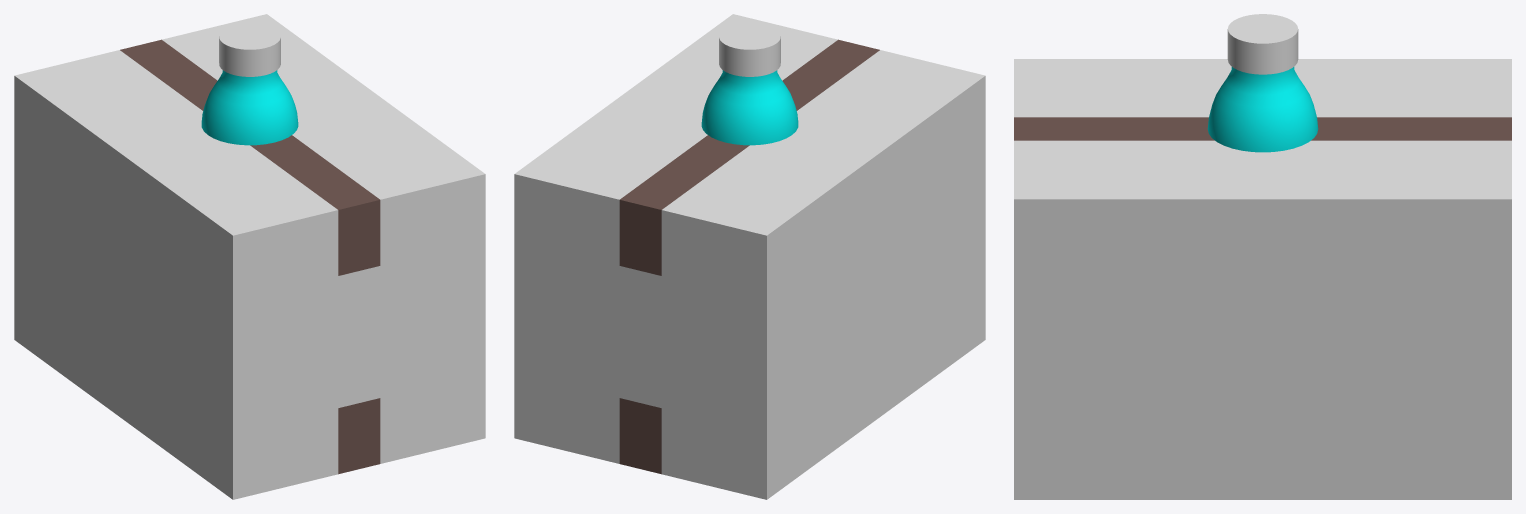
Rendered from SM_Collectables.fbx.
3 views of the same model, side by side, from view 1: azimuth 30°, elevation 25°; view 2: azimuth 150°, elevation 25°; view 3: azimuth 270°, elevation 25° (orthographic). The views are drawn at different scales.
Visible parts, largest first — view 1: Parcel, WaterBottle; view 2: Parcel, WaterBottle; view 3: Parcel, WaterBottle.
Part boxes in pixels (x1,y1,x2,y2): Parcel: [14, 14, 485, 499]; WaterBottle: [201, 23, 298, 145]; Parcel: [514, 14, 985, 499]; WaterBottle: [701, 23, 798, 145]; Parcel: [1014, 59, 1511, 499]; WaterBottle: [1207, 14, 1318, 152].
Bounding box in the file's own units: 30 × 40 × 45.
